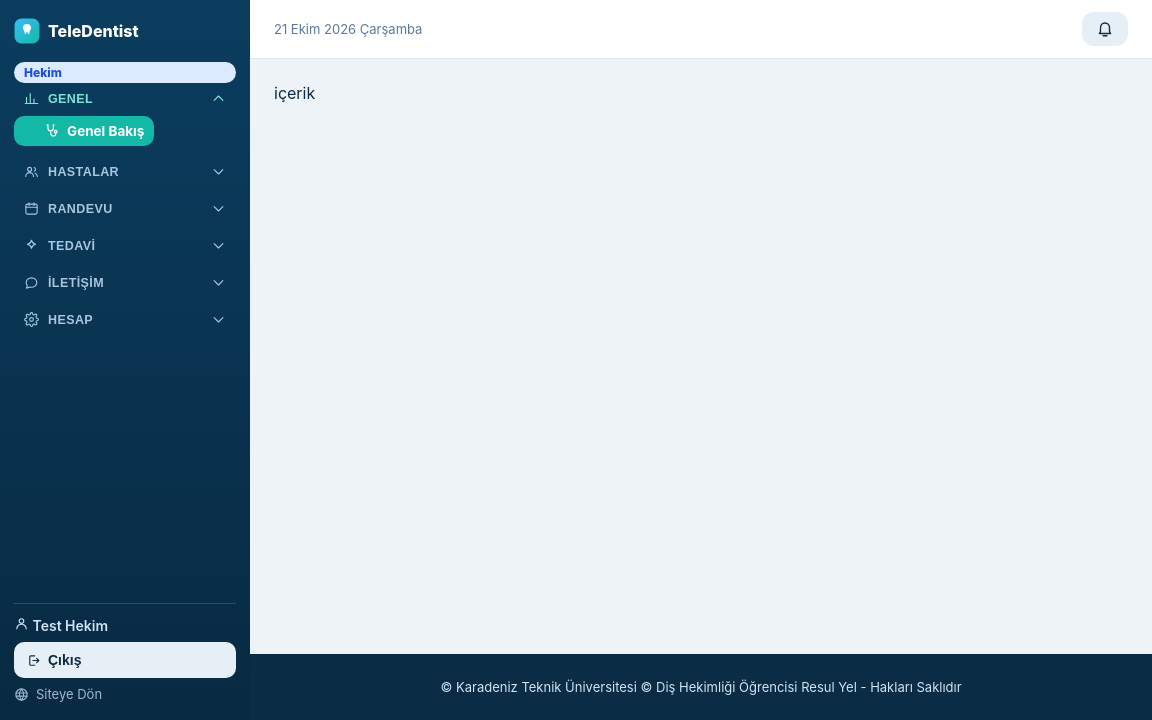
Test: Beyaz ekran regresyon testi (16.10.2026) › menüde bir grup açılınca diğeri kapanır (ekran kirliliği olmaz)
Click the button with class "menu-group-head" showing "Tedavi" at (125,246), box [14,230,236,261]
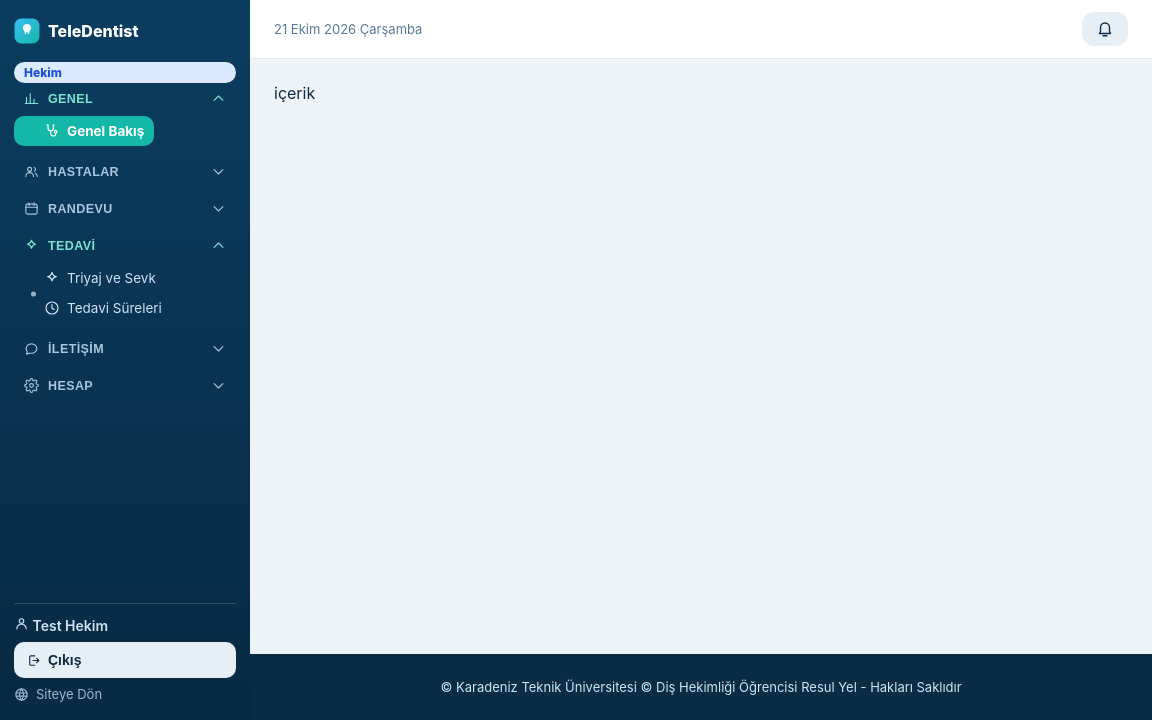
Expected: the button with class "menu-group-head" is expanded, [14,230,236,261]
Click the button with class "menu-group-head" showing "İletişim" at (125,348), box [14,333,236,364]
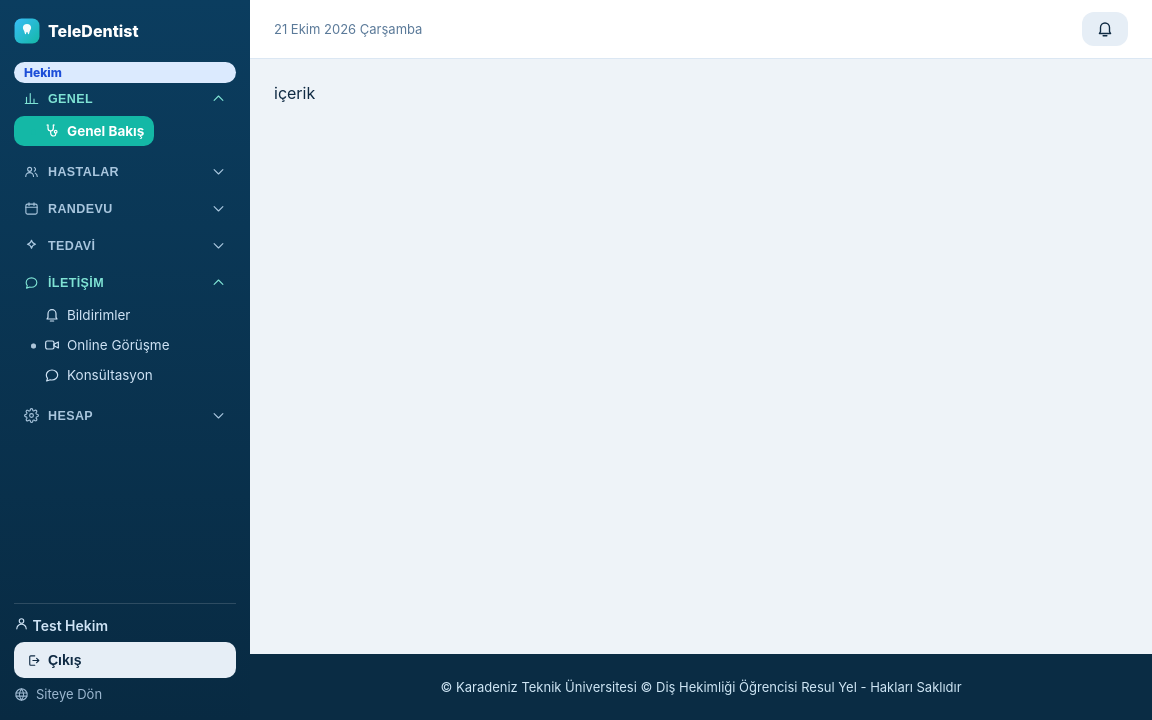
Expected: the button with class "menu-group-head" is expanded, [14,267,236,298]
Expected: the button with class "menu-group-head" is collapsed, [14,230,236,261]
